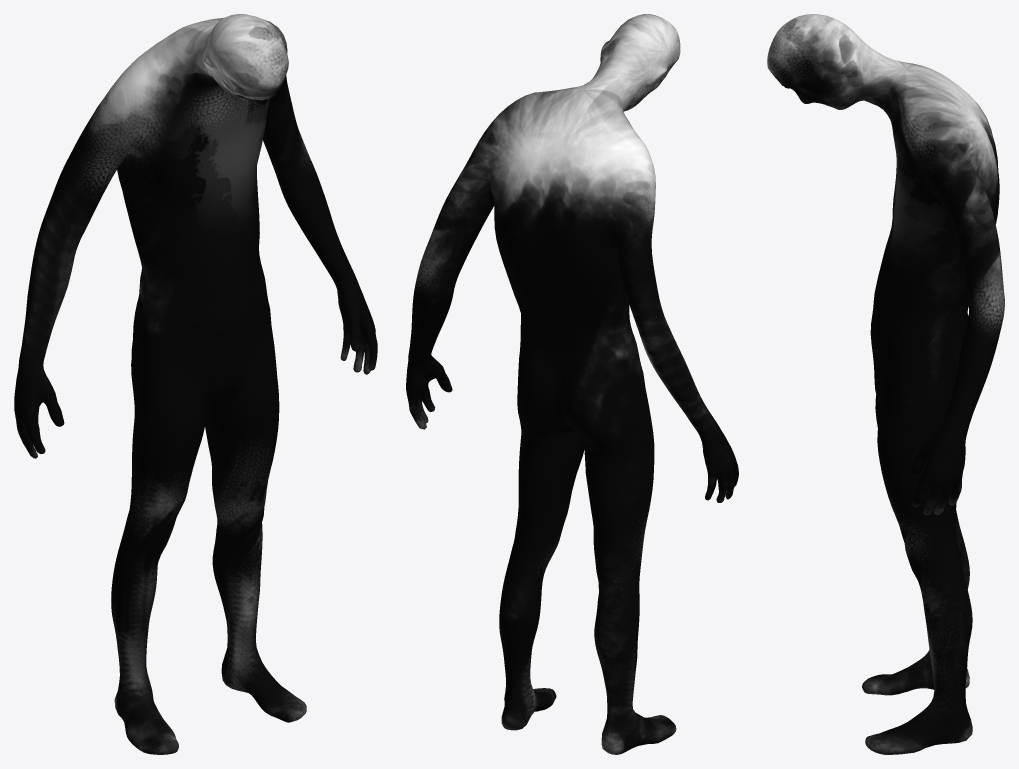
The model's file is DarkFigure.fbx.
3 renders of one model, left to right at view 1: azimuth 30°, elevation 25°; view 2: azimuth 150°, elevation 25°; view 3: azimuth 270°, elevation 25°, orthographic. The views are drawn at different scales.
Parts seen in each view (by area): view 1: humanBody; view 2: humanBody; view 3: humanBody.
Part boxes in pixels (x1=…): humanBody: x1=14, y1=14, x2=377, y2=754; humanBody: x1=406, y1=14, x2=738, y2=754; humanBody: x1=767, y1=14, x2=1004, y2=754.
Bounding box in the file's own units: 95.53 × 192 × 59.31.
